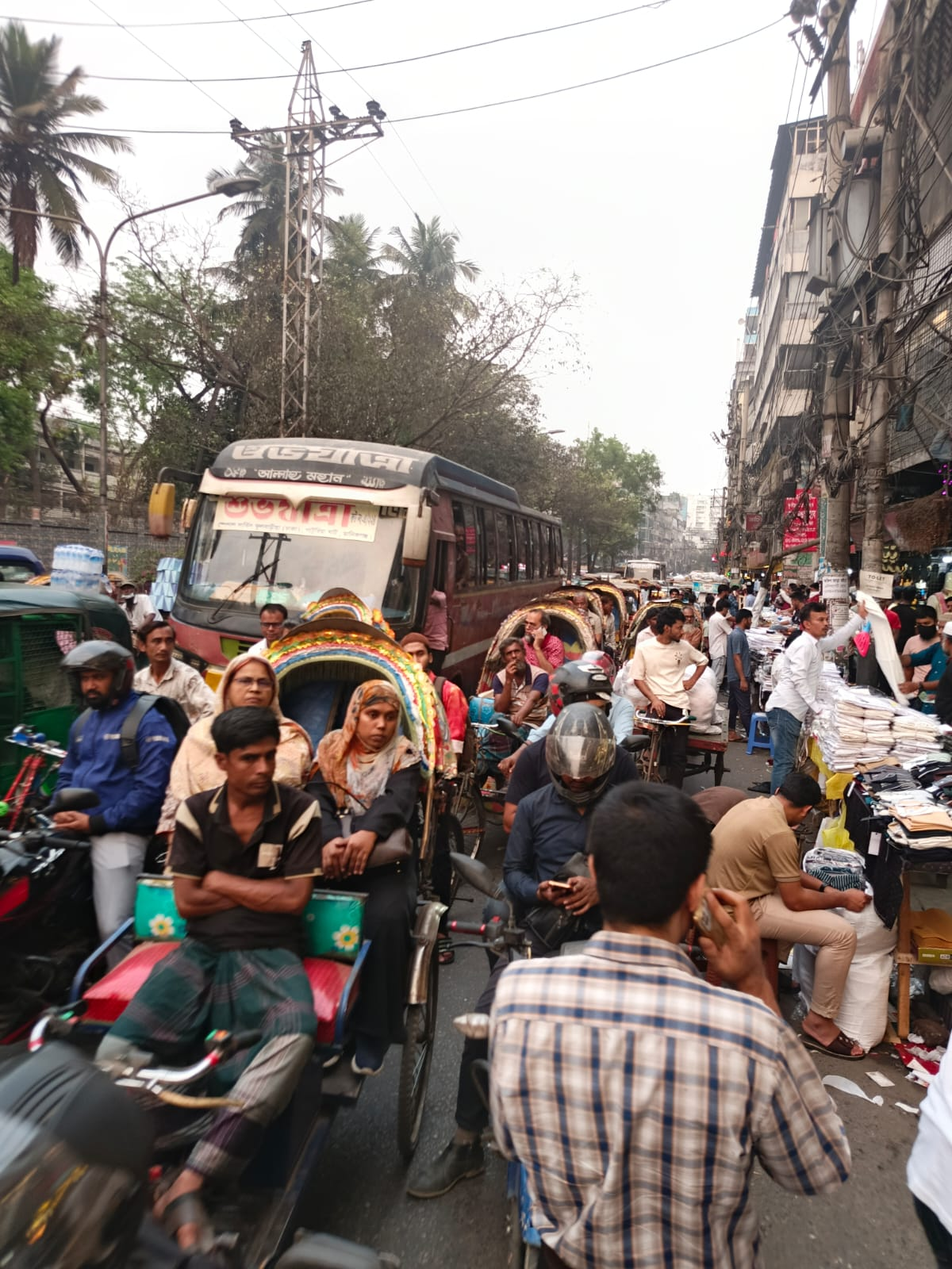Bikes: (8, 651, 165, 1001)
Bus: (130, 344, 609, 648)
auto-ricksaw: (130, 598, 489, 1200), (510, 558, 639, 788), (616, 548, 719, 762)
cng: (3, 566, 148, 762)
